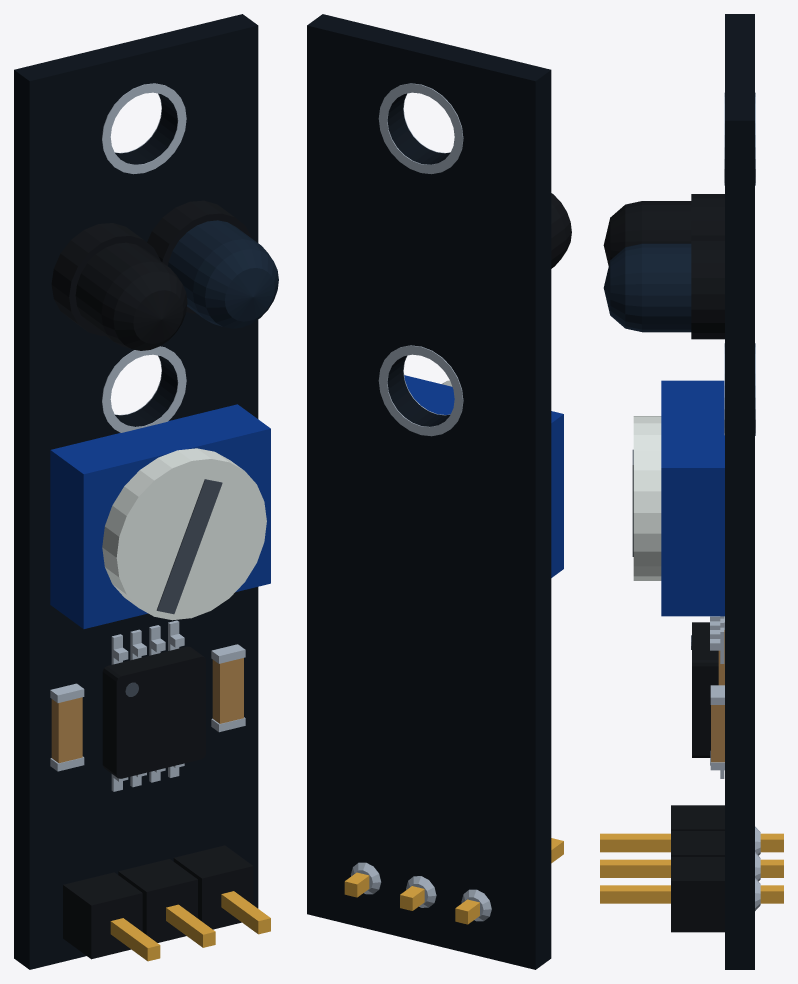
Rendered from line_tracker_module.obj.
The picture shows the model from 3 angles, left to right: view 1: azimuth 30°, elevation 25°; view 2: azimuth 150°, elevation 25°; view 3: azimuth 270°, elevation 25°; orthographic projection. The views are drawn at different scales.
Visible parts, largest first — view 1: line_tracker_module; view 2: line_tracker_module; view 3: line_tracker_module.
Part boxes in pixels (x1,y1,x2,y2): line_tracker_module: (14,14,278,969); line_tracker_module: (307,14,571,969); line_tracker_module: (600,14,783,969).
Bounding box in the file's own units: 0.5385 × 2 × 0.3923.
